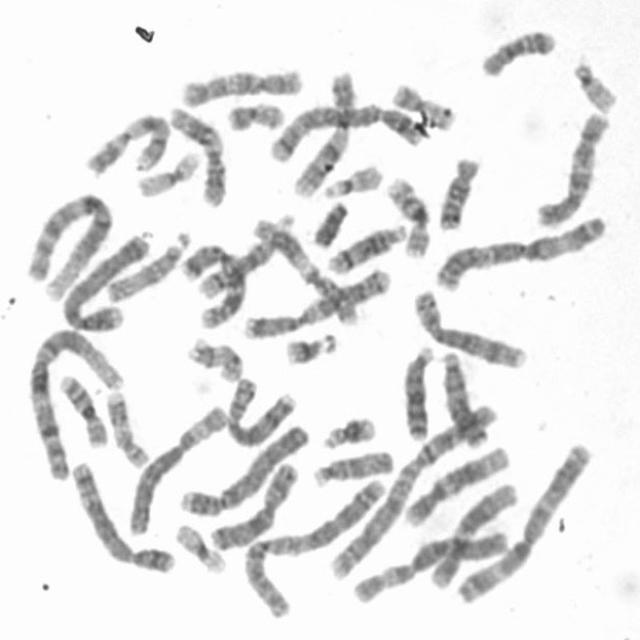A1: (23, 321, 128, 482), (21, 188, 117, 296)
A2: (327, 396, 503, 583), (236, 470, 390, 621)
A3: (449, 434, 596, 607), (428, 208, 612, 294)
B4: (176, 417, 311, 518), (58, 228, 154, 334)
B5: (66, 454, 178, 576), (264, 98, 428, 163)
C10: (532, 106, 614, 230), (175, 62, 306, 109)
C11: (248, 212, 362, 326), (165, 100, 229, 209)
C12: (422, 477, 521, 590), (400, 438, 512, 527)
C6: (122, 399, 230, 536), (348, 524, 513, 606)
C7: (238, 262, 394, 341), (178, 238, 248, 332)
C8: (409, 283, 533, 371), (223, 371, 301, 448)
C9: (288, 65, 358, 200), (81, 107, 174, 177)
D13: (437, 346, 490, 449), (398, 338, 438, 443)
D14: (192, 207, 301, 302), (323, 219, 410, 275)
D15: (102, 224, 193, 304), (308, 442, 397, 488)
E16: (382, 170, 434, 259), (54, 368, 110, 449)
E17: (102, 385, 152, 469), (185, 332, 246, 384)
E18: (474, 22, 558, 79), (433, 150, 484, 232)
F19: (132, 145, 204, 198), (171, 517, 230, 577)
F20: (387, 77, 459, 132), (222, 96, 289, 133)
G21: (316, 410, 379, 451), (279, 326, 340, 367)
G22: (568, 53, 621, 114), (318, 158, 386, 199)
X: (204, 456, 300, 552)
Y: (308, 194, 352, 249)
